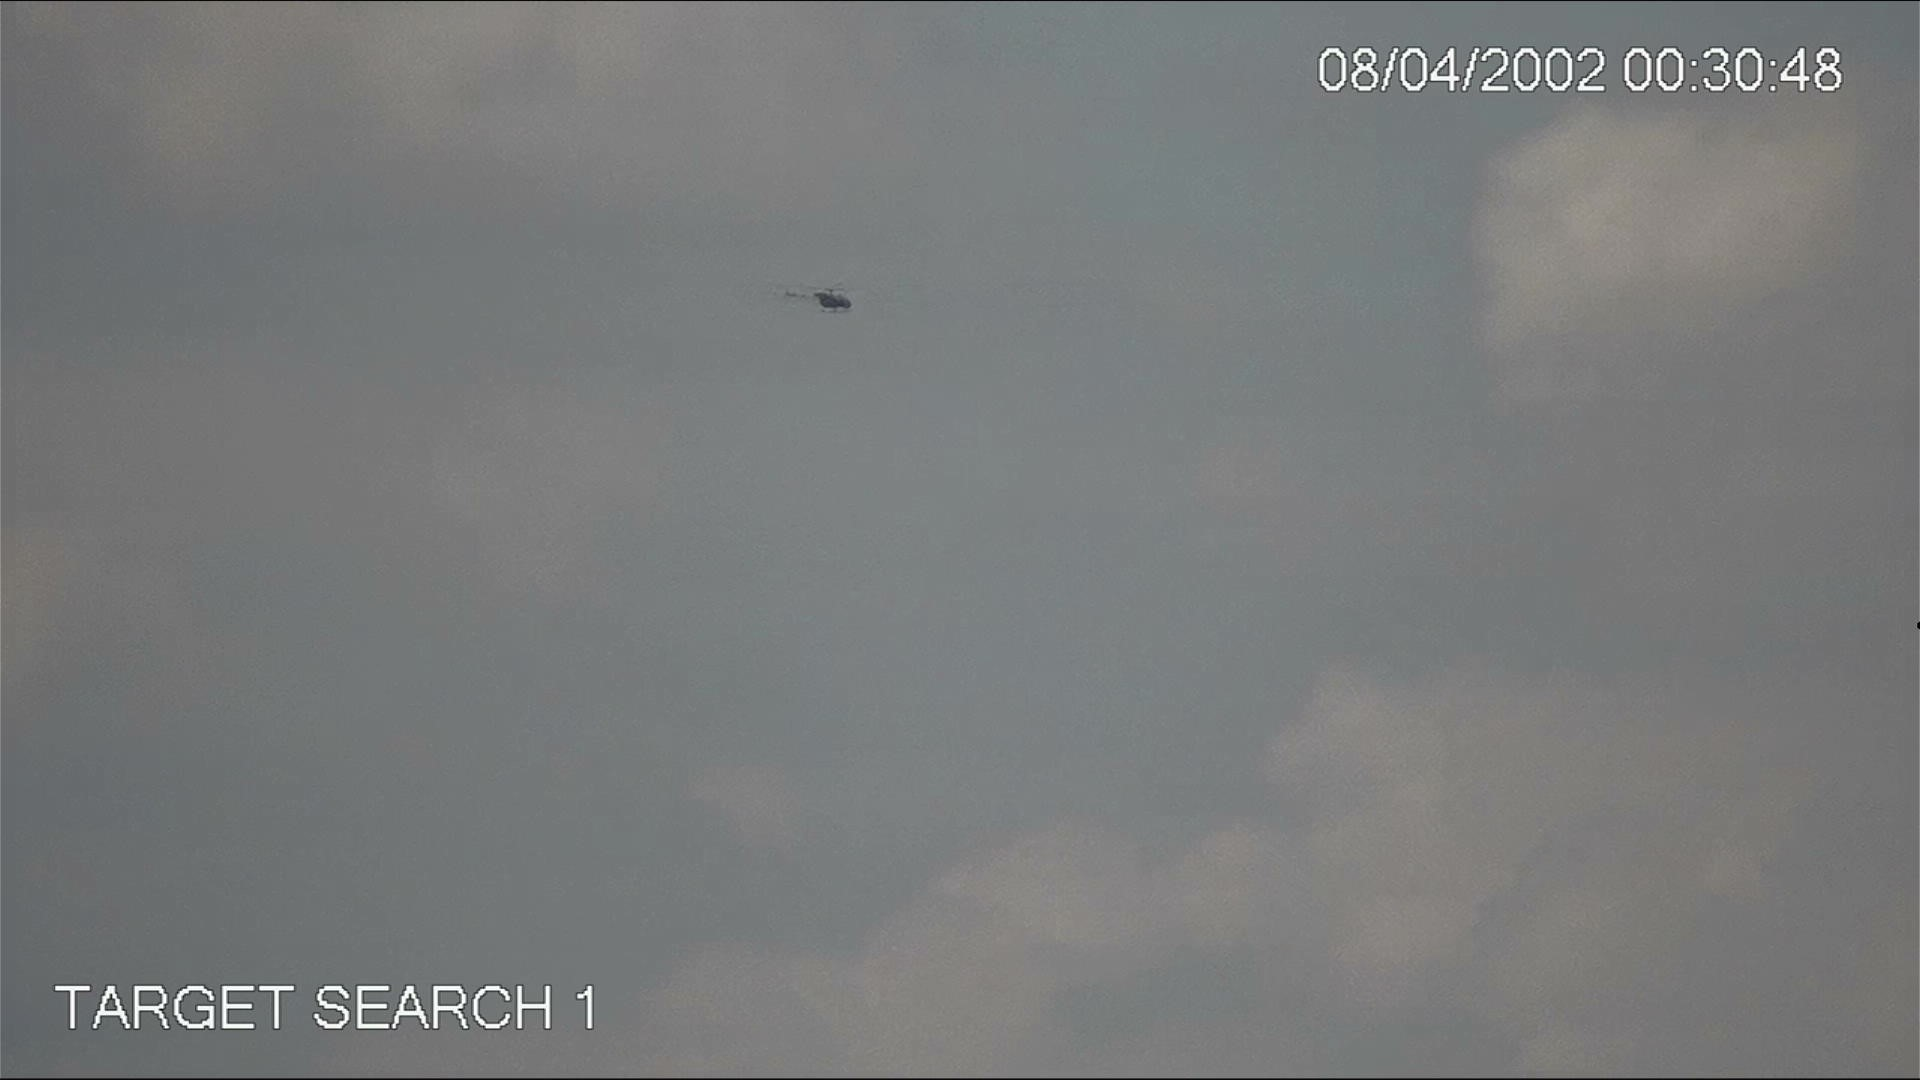SU_30: (782, 281, 864, 323)
